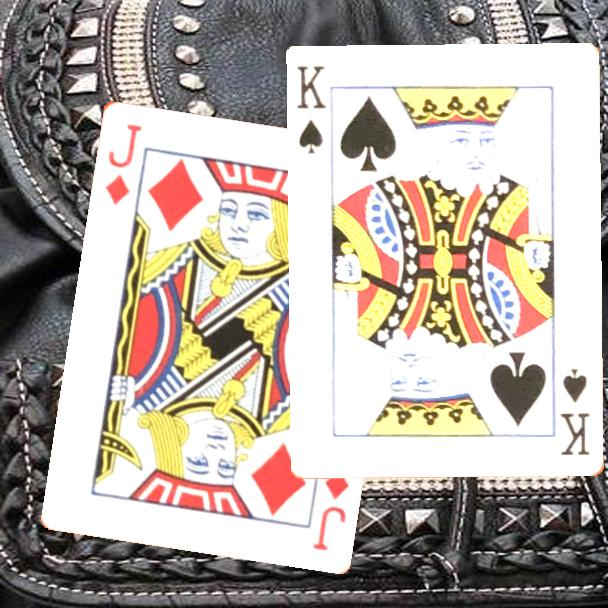d11: (308, 464, 352, 553), (101, 119, 144, 208)
s13: (557, 365, 593, 458), (294, 63, 329, 157)
